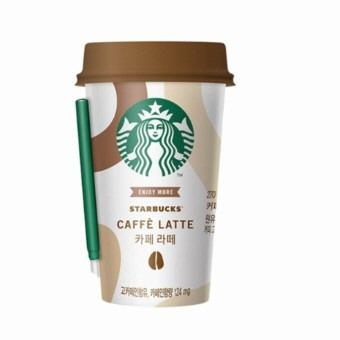starbucks_cafelatte: (70, 34, 234, 315)
